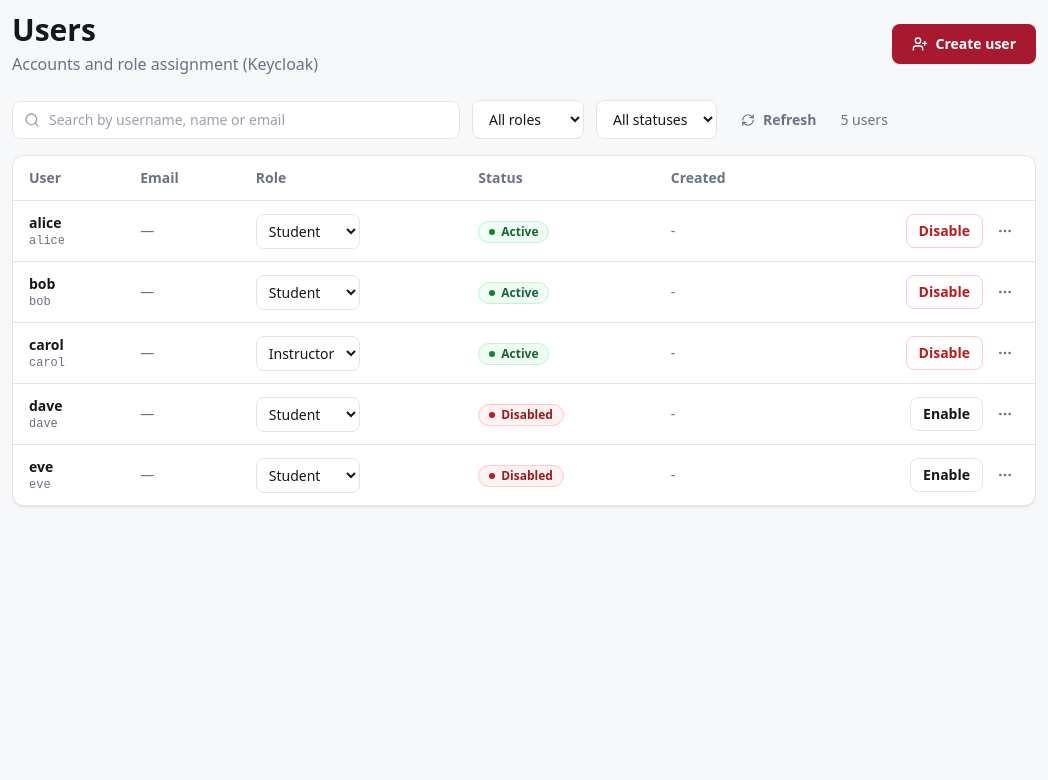
Test: staff have no exclude option; the menu says why
Click the button named "More actions for carol" at (1005, 353), box left=991, top=339, right=1019, bottom=367
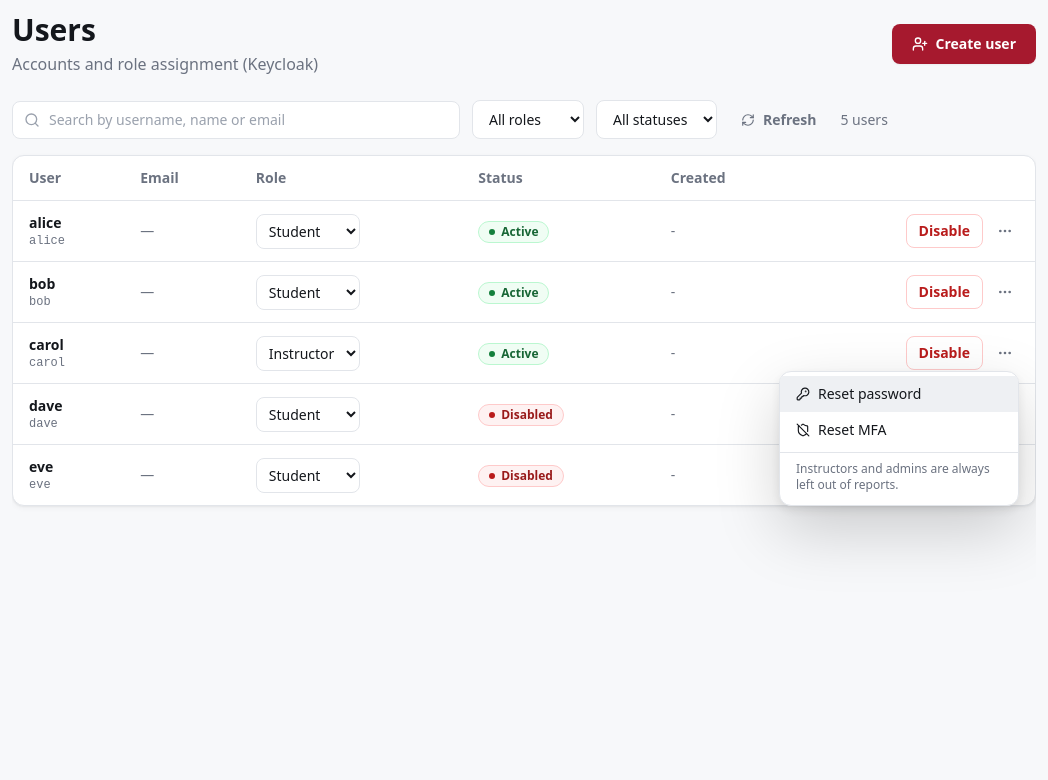
Now the menu items read "Reset password", "Reset MFA", in this order, box left=780, top=376, right=1018, bottom=412; left=780, top=412, right=1018, bottom=448
Now the text "Instructors and admins are always left out of reports." is shown, box left=780, top=452, right=1018, bottom=501
